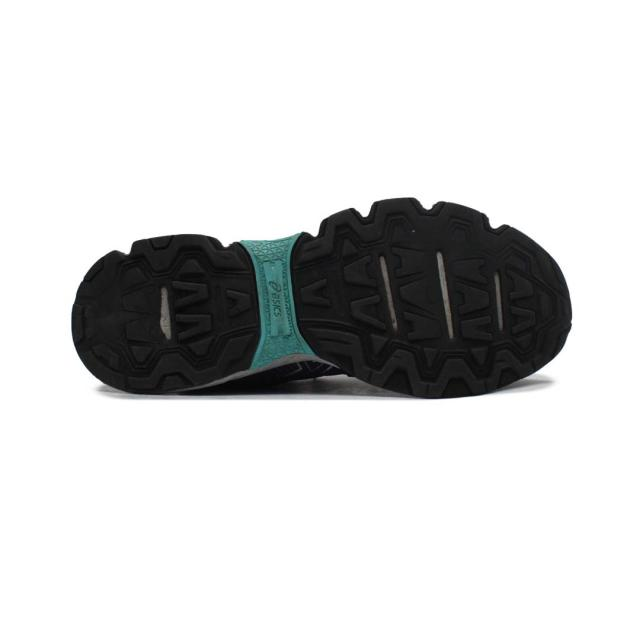outersole: (62, 206, 572, 395)
